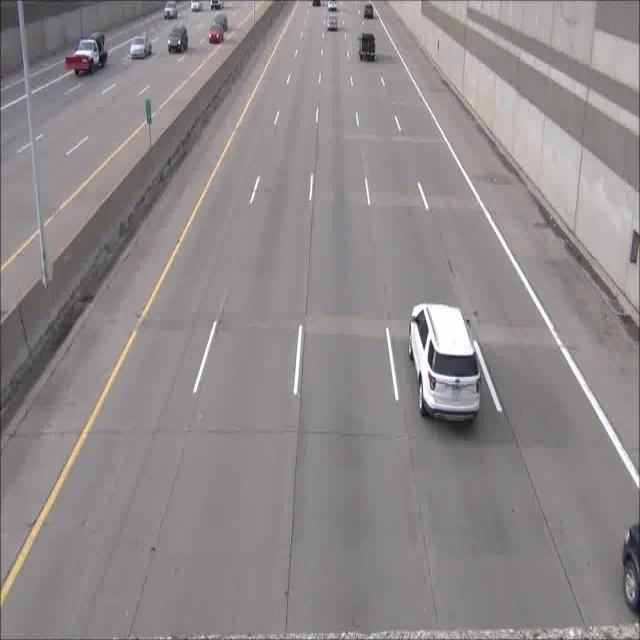Car: (406, 292, 484, 438), (128, 25, 155, 59), (356, 23, 376, 67), (168, 19, 192, 53), (206, 10, 229, 45), (160, 0, 182, 24), (326, 2, 340, 30), (362, 0, 374, 22)
Truck: (67, 23, 108, 82)
